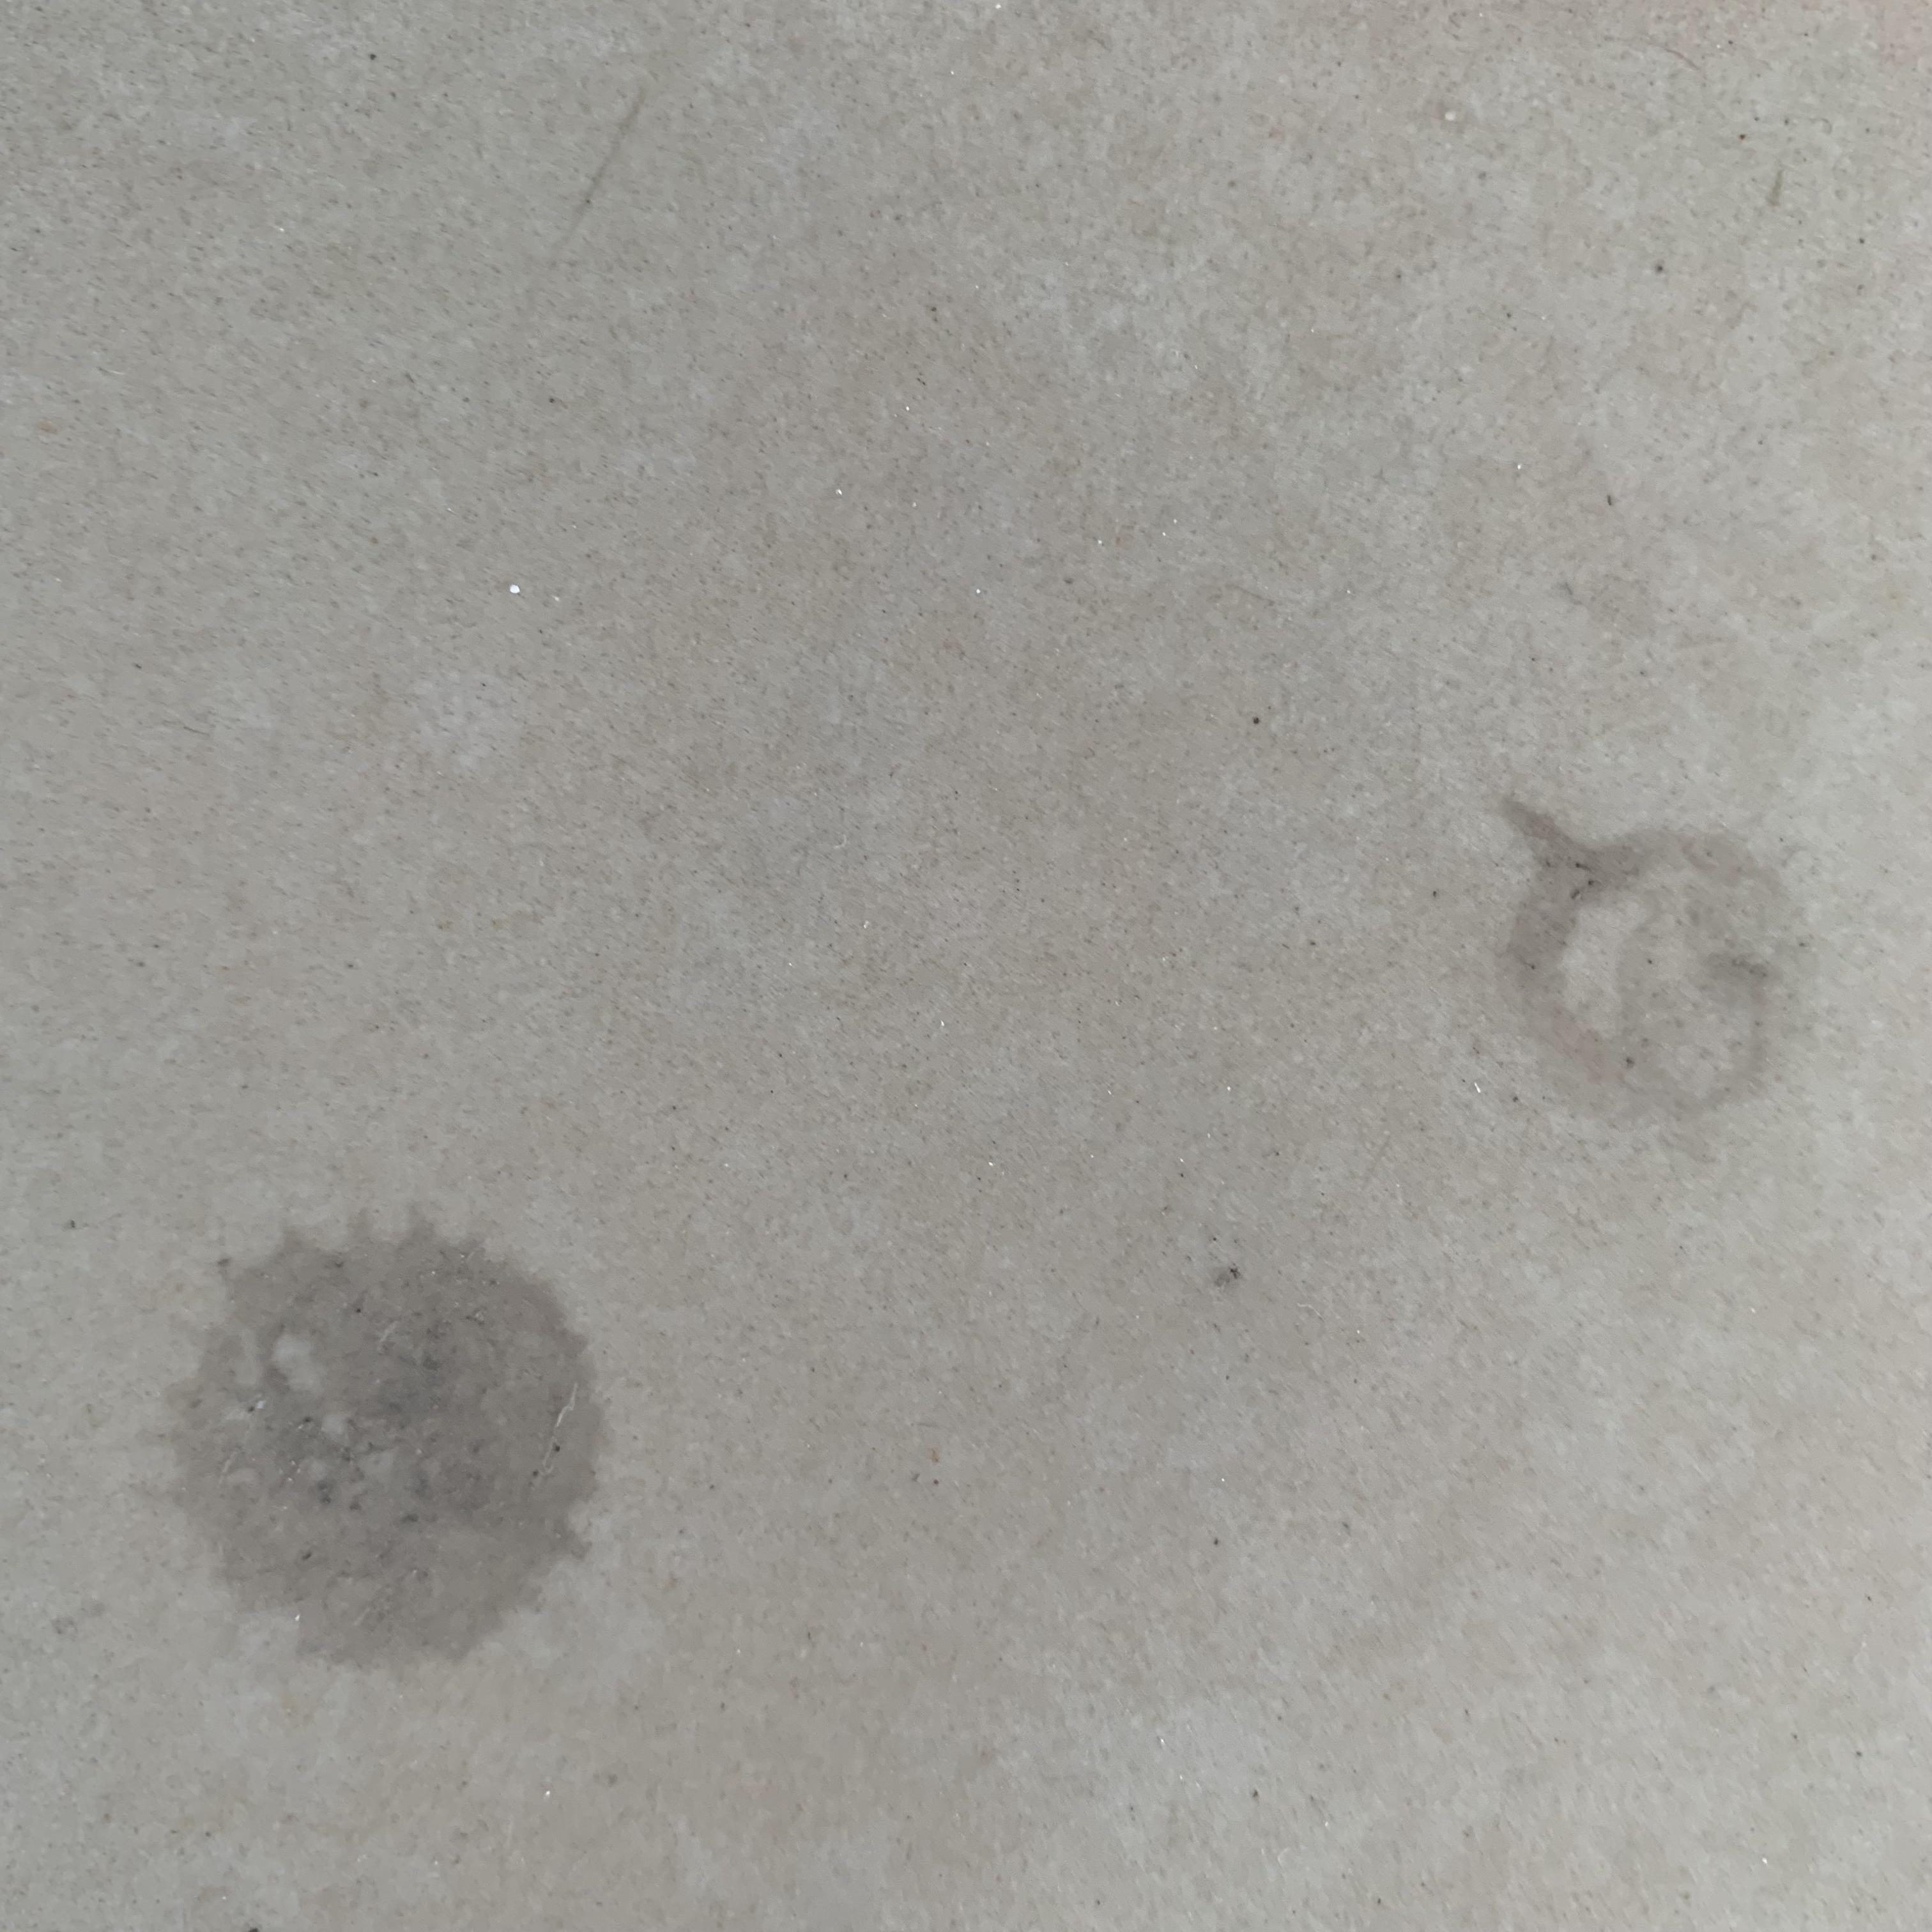grey spot: (134, 1210, 610, 1674), (1491, 796, 1819, 1152)
